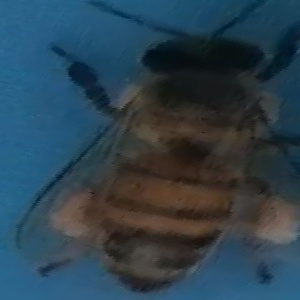bee: (50, 19, 295, 288)
